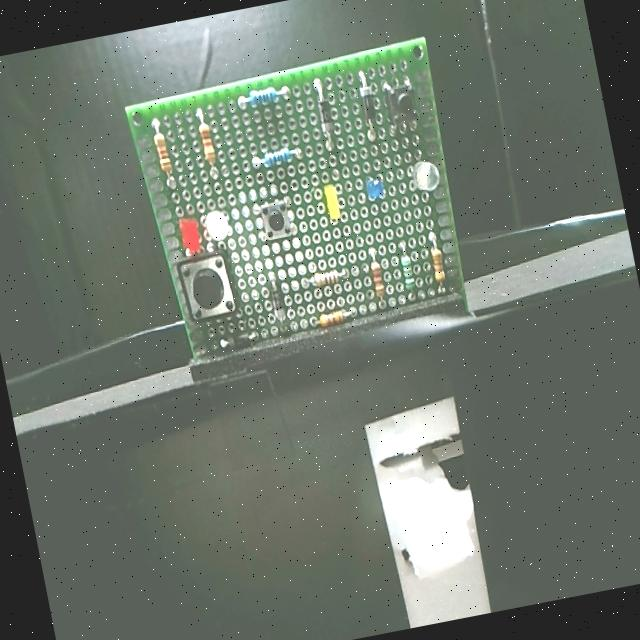diode: (306, 85, 352, 144), (348, 79, 386, 145), (224, 318, 274, 359), (266, 280, 291, 322)
led: (168, 205, 212, 256), (201, 201, 235, 246), (410, 155, 443, 196), (320, 178, 348, 220), (366, 165, 386, 202)
resistor: (192, 117, 222, 175), (237, 86, 286, 118), (312, 302, 356, 336), (362, 253, 393, 300), (150, 126, 177, 177), (254, 141, 298, 171), (399, 246, 424, 297), (424, 244, 450, 293), (312, 262, 346, 292)
switch: (174, 246, 242, 326), (380, 76, 422, 134), (256, 197, 296, 248)
